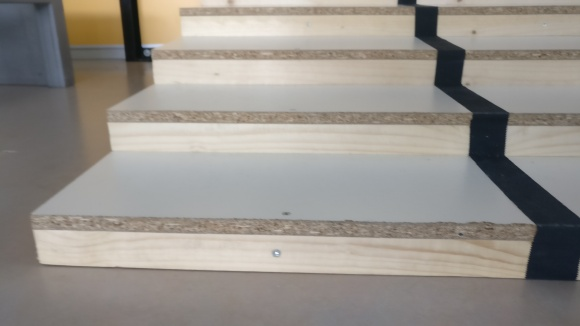stairs: (28, 1, 580, 285)
